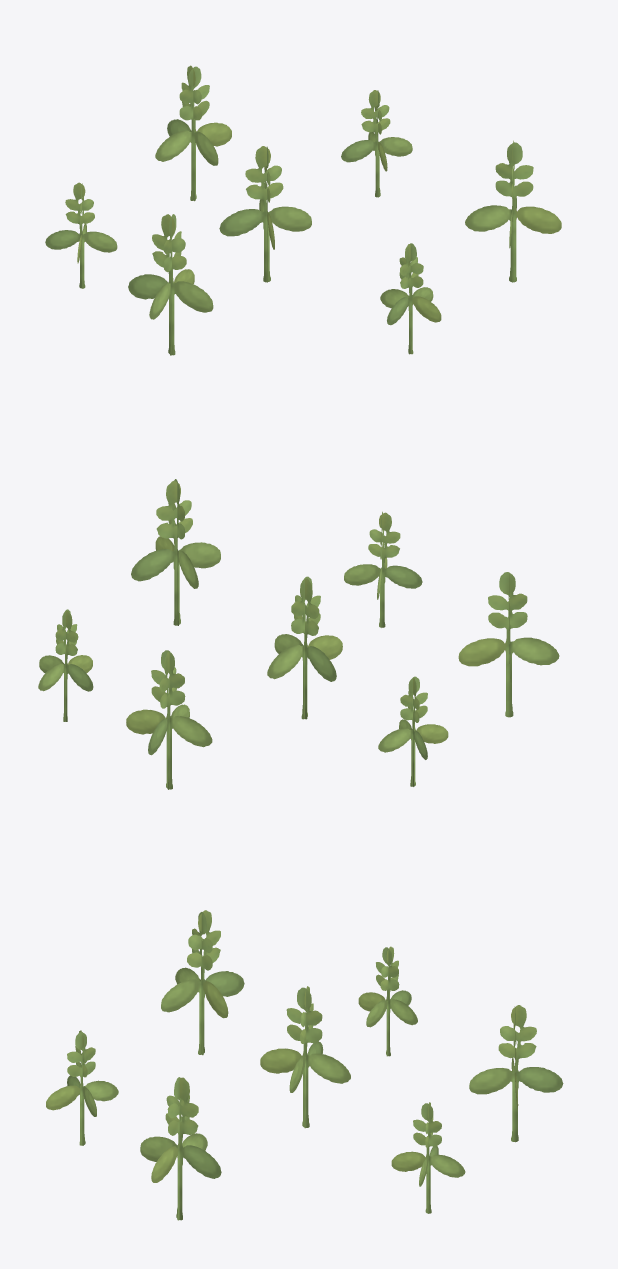
Rendered from crop_tomato_1.glb.
The picture shows the model from 3 angles, top to bottom: view 1: azimuth 30°, elevation 25°; view 2: azimuth 150°, elevation 25°; view 3: azimuth 270°, elevation 25°; orthographic projection. The views are drawn at different scales.
Parts seen in each view (by area): view 1: crop_tomato_1; view 2: crop_tomato_1; view 3: crop_tomato_1.
Boxes of the visible parts, bbox=[...] form: crop_tomato_1: bbox=[45, 65, 561, 355]; crop_tomato_1: bbox=[38, 479, 559, 789]; crop_tomato_1: bbox=[46, 910, 563, 1220].
Size of the model in its own units: 0.6688 by 0.2286 by 0.7211.
Materials: 1 (1 with a texture image).
